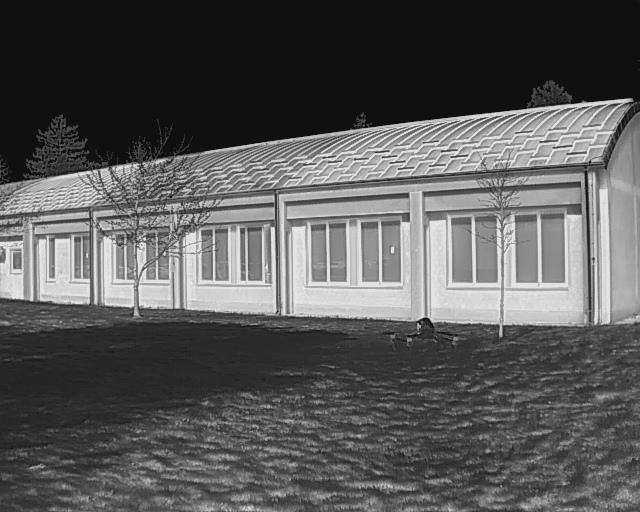drone: (373, 311, 478, 362)
